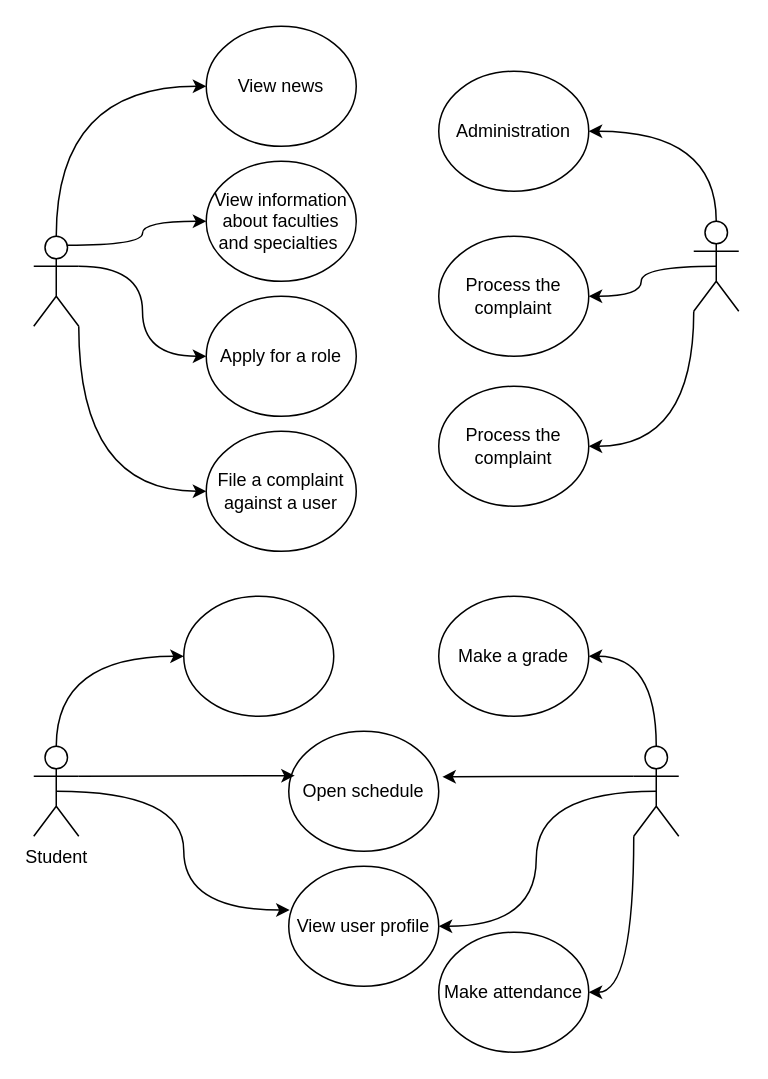
Image size: 768x1079. Some labels were removed from this diagram. The shapes that lost their labels are listed below. From the top down, each one's centre as x and y in pixels, then its label:
At pixel 55 280: "User".
At pixel 715 265: "Admin".
At pixel 258 655: "Get your own subjects".
At pixel 655 790: "Teacher".
